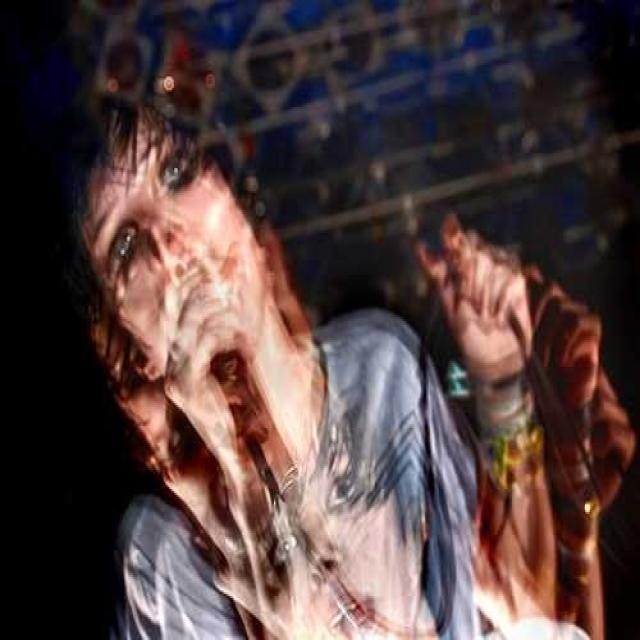microphone: (177, 294, 250, 377)
